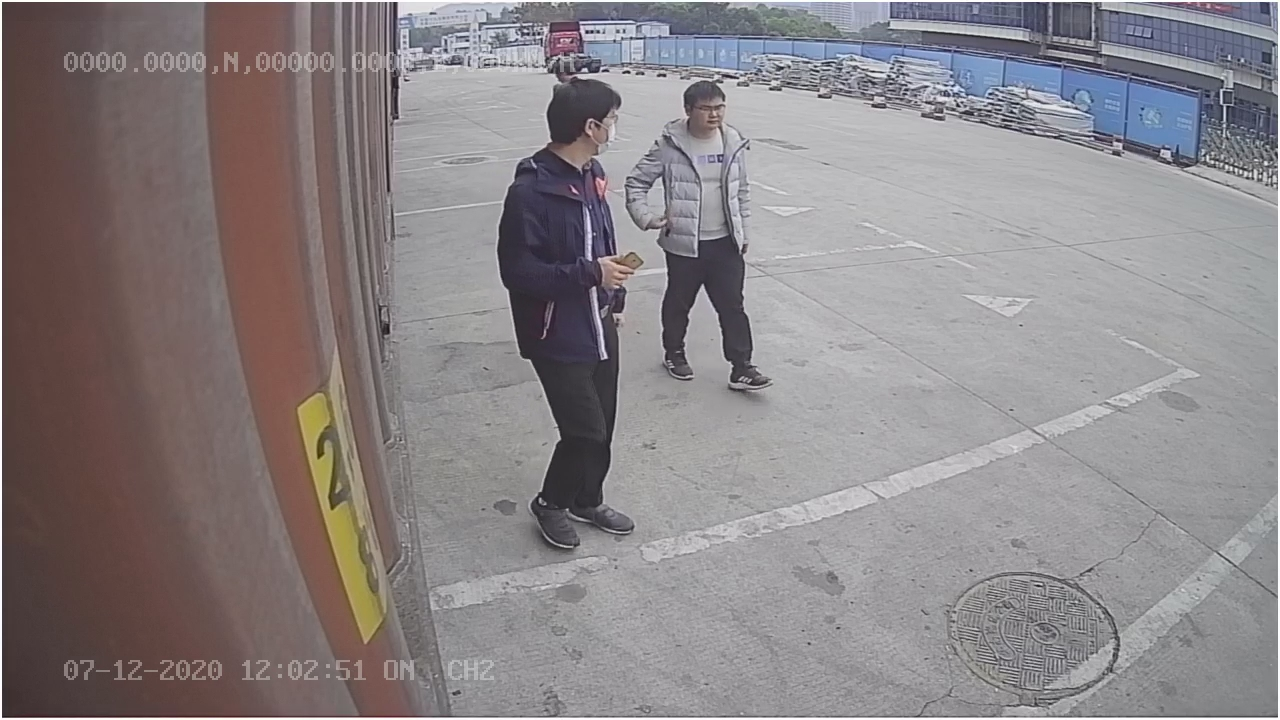person: (497, 79, 641, 549)
